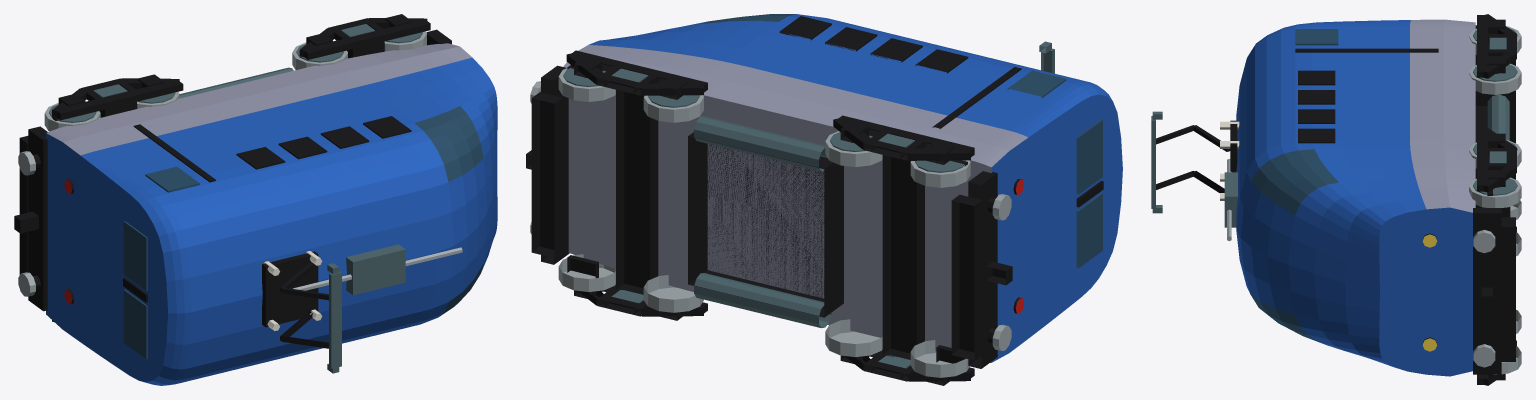
3 views of the same model, side by side, from view 1: azimuth 30°, elevation 25°; view 2: azimuth 150°, elevation 25°; view 3: azimuth 270°, elevation 25° (orthographic). The views are drawn at different scales.
Visible parts, largest first — view 1: default_body, default_bogie1, default_bogie-1, default_beam-1, default_pan_base-1.6, default_breaker, default_screen-1-0.62, default_screen-10.62, default_buffers-1, default_pan_head-1.6, default_plough-1, default_side1_-3.30_3.85_glass_dark (+7 smaller); view 2: default_body, default_bogie-1, default_bogie1, default_tank, default_plough-1, default_plough1, default_air_tank-1, default_air_tank1, default_beam-1, default_beam1, default_screen-10.62, default_screen-1-0.62 (+8 smaller); view 3: default_body, default_bogie1, default_beam1, default_bogie-1, default_plough1, default_buffers1, default_air_tank1, default_side1_-3.30_3.85_glass_dark, default_side1_-2.51_2.10_black, default_breaker, default_side1_0.80_3.90_black, default_side1_-1.60_3.90_black (+6 smaller).
Boxes of the visible parts, x1,y1,x2,y2 form: default_body: [46, 43, 497, 385]; default_bogie1: [292, 14, 430, 69]; default_bogie-1: [44, 74, 183, 321]; default_beam-1: [28, 126, 47, 311]; default_pan_base-1.6: [262, 251, 318, 327]; default_breaker: [346, 244, 405, 295]; default_screen-1-0.62: [123, 289, 147, 359]; default_screen-10.62: [123, 221, 147, 290]; default_buffers-1: [14, 151, 40, 296]; default_pan_head-1.6: [329, 271, 341, 368]; default_plough-1: [19, 136, 28, 274]; default_side1_-3.30_3.85_glass_dark: [145, 166, 199, 192]; default_body: [563, 14, 1122, 362]; default_bogie-1: [825, 115, 974, 385]; default_bogie1: [558, 50, 707, 320]; default_tank: [688, 132, 843, 317]; default_plough-1: [951, 194, 982, 360]; default_plough1: [531, 92, 562, 257]; default_air_tank-1: [694, 273, 831, 328]; default_air_tank1: [694, 116, 827, 171]; default_beam-1: [968, 171, 997, 368]; default_beam1: [541, 65, 569, 264]; default_screen-10.62: [1076, 119, 1102, 194]; default_screen-1-0.62: [1076, 193, 1102, 268]; default_body: [1236, 19, 1475, 376]; default_bogie1: [1469, 128, 1521, 385]; default_beam1: [1473, 208, 1501, 374]; default_bogie-1: [1469, 14, 1521, 256]; default_plough1: [1501, 217, 1515, 361]; default_buffers1: [1473, 230, 1495, 367]; default_air_tank1: [1487, 94, 1509, 140]; default_side1_-3.30_3.85_glass_dark: [1295, 29, 1338, 45]; default_side1_-2.51_2.10_black: [1295, 48, 1438, 52]; default_breaker: [1224, 172, 1237, 227]; default_side1_0.80_3.90_black: [1298, 128, 1335, 143]; default_side1_-1.60_3.90_black: [1298, 70, 1335, 85].
Size of the model in its own units: 8.46 by 3.9 by 6.46.
